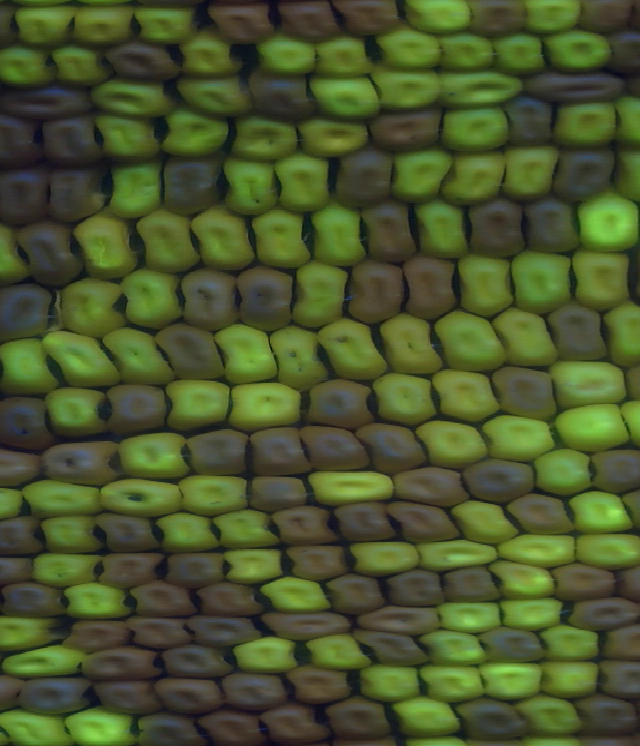fluorescent: (133, 212, 201, 276), (46, 327, 114, 388), (433, 312, 505, 369), (454, 252, 514, 319), (293, 259, 345, 332), (103, 327, 166, 387), (56, 283, 123, 339), (567, 247, 629, 307), (118, 270, 180, 330), (193, 207, 253, 268), (70, 219, 133, 277), (575, 194, 637, 252), (250, 209, 313, 266), (119, 432, 193, 480), (498, 306, 557, 366), (214, 324, 275, 382), (512, 248, 569, 310), (555, 405, 630, 452), (165, 377, 230, 431), (379, 312, 437, 372), (320, 322, 383, 377), (437, 106, 509, 154), (568, 488, 635, 538), (94, 113, 162, 162), (433, 369, 497, 421), (97, 478, 184, 516), (233, 382, 303, 429), (313, 203, 360, 272), (501, 143, 557, 200), (557, 362, 626, 408), (0, 337, 55, 394), (110, 160, 163, 219), (221, 161, 274, 220), (163, 107, 228, 155), (418, 421, 485, 467), (231, 117, 297, 163), (375, 28, 444, 72), (273, 327, 325, 385), (274, 155, 327, 211), (22, 480, 100, 518), (376, 373, 434, 424), (93, 81, 175, 117), (416, 201, 468, 257), (443, 72, 523, 108), (448, 152, 501, 206), (548, 27, 610, 73), (484, 417, 553, 457), (310, 470, 393, 503), (393, 150, 450, 198), (310, 75, 380, 114), (556, 99, 616, 144), (66, 706, 135, 745), (500, 534, 581, 567), (178, 79, 248, 117), (394, 695, 457, 737), (49, 388, 105, 435), (490, 558, 555, 598), (0, 707, 66, 746), (481, 659, 542, 701), (183, 476, 247, 516), (421, 537, 496, 571), (63, 581, 133, 617), (455, 501, 513, 544), (351, 539, 418, 576), (536, 450, 591, 495), (51, 44, 106, 89), (302, 119, 368, 156), (174, 32, 235, 72), (304, 634, 368, 672), (0, 44, 55, 88), (575, 532, 640, 569), (313, 35, 373, 75), (418, 632, 486, 667), (538, 659, 599, 698), (153, 513, 214, 552), (234, 635, 298, 672), (360, 662, 423, 699), (6, 650, 83, 680), (43, 516, 104, 553), (218, 511, 279, 548), (70, 7, 131, 44), (18, 7, 73, 48), (35, 552, 102, 585), (606, 299, 640, 364), (422, 666, 483, 702), (523, 700, 584, 736), (264, 577, 330, 610), (403, 2, 468, 35), (0, 613, 55, 651), (439, 597, 498, 632), (136, 7, 194, 42), (224, 548, 283, 582), (498, 596, 560, 628), (378, 74, 436, 107), (522, 1, 577, 35), (263, 37, 313, 74), (498, 32, 542, 74), (542, 626, 599, 657), (441, 36, 496, 67)
nonfluorescent: (235, 268, 301, 332), (400, 255, 461, 319), (492, 363, 556, 422), (17, 221, 78, 282), (348, 259, 408, 321), (163, 156, 228, 213), (333, 148, 393, 208), (463, 197, 523, 257), (364, 201, 421, 263), (523, 67, 625, 101), (158, 324, 218, 380), (544, 305, 605, 360), (45, 169, 108, 222), (362, 424, 426, 476), (389, 499, 458, 546), (0, 397, 54, 457), (1, 84, 86, 122), (180, 270, 237, 326), (249, 428, 311, 479), (0, 287, 56, 343), (556, 147, 616, 199), (463, 459, 539, 500), (305, 424, 366, 474), (505, 92, 557, 150), (258, 702, 333, 742), (391, 467, 465, 507), (107, 382, 165, 433), (309, 379, 373, 425), (370, 108, 445, 147), (254, 72, 318, 117), (524, 197, 575, 253), (106, 42, 178, 81), (185, 427, 246, 473), (80, 644, 155, 681), (43, 444, 116, 482), (565, 595, 638, 633), (275, 1, 342, 42), (0, 168, 49, 223), (478, 630, 548, 668), (212, 2, 273, 45), (334, 501, 396, 542), (43, 115, 99, 160), (133, 577, 197, 616), (286, 542, 348, 582), (508, 492, 568, 533), (16, 678, 84, 714), (97, 512, 158, 552), (325, 575, 383, 617), (463, 696, 522, 737), (288, 666, 349, 705), (278, 506, 333, 548), (221, 675, 283, 712), (88, 681, 157, 714), (358, 628, 423, 663), (162, 646, 233, 678), (267, 609, 348, 637), (578, 692, 633, 733), (0, 112, 38, 171), (555, 562, 619, 597), (328, 700, 388, 737), (165, 551, 225, 587), (591, 449, 640, 493), (128, 618, 191, 652), (157, 679, 220, 713), (389, 570, 442, 610), (245, 477, 310, 509), (191, 617, 260, 647), (465, 2, 523, 37), (197, 583, 258, 616), (99, 549, 157, 583), (67, 619, 130, 650), (363, 606, 438, 632), (344, 2, 403, 35), (581, 1, 635, 37), (0, 582, 64, 612), (139, 712, 195, 746), (442, 567, 498, 601), (0, 446, 44, 487), (198, 713, 262, 740), (0, 516, 39, 556), (610, 24, 640, 75), (598, 663, 640, 698), (604, 624, 640, 661)
